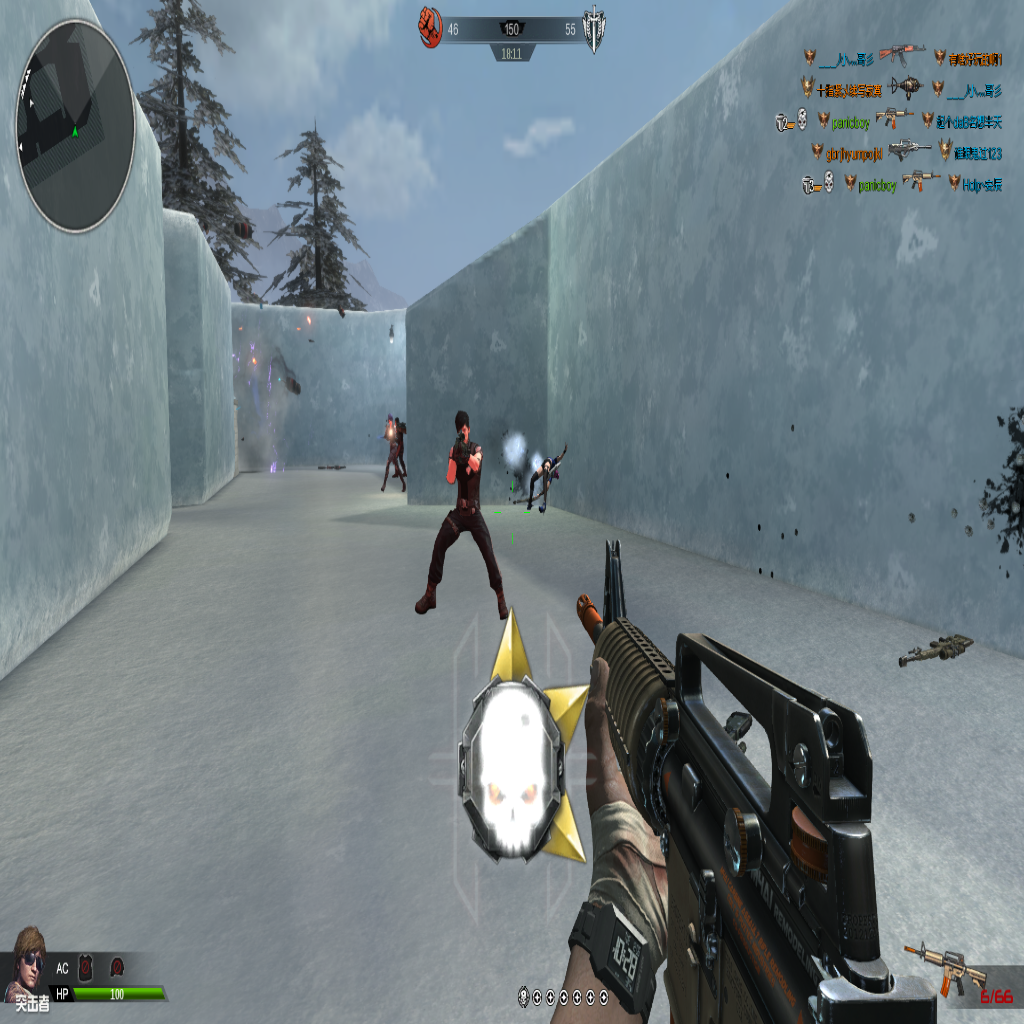ct: (415, 411, 512, 616), (379, 410, 406, 493)
